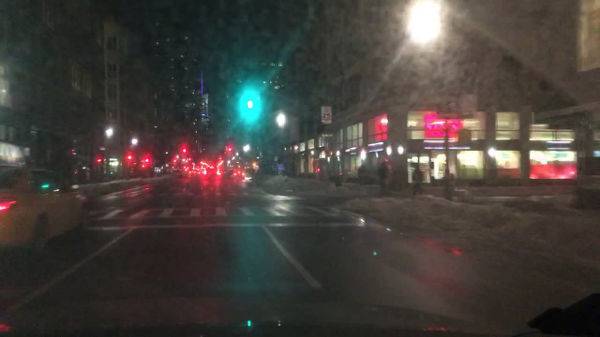car: (0, 163, 90, 252), (202, 165, 223, 179), (184, 166, 198, 177), (232, 167, 245, 178)
person: (410, 161, 424, 196), (377, 159, 390, 196), (443, 170, 456, 200), (357, 163, 369, 188)
traffic light: (246, 91, 255, 109), (95, 151, 102, 163), (327, 145, 332, 157), (181, 146, 187, 155), (126, 153, 132, 161), (144, 155, 150, 163), (171, 158, 177, 165), (228, 146, 233, 154)
traffic sign: (320, 105, 333, 125)
